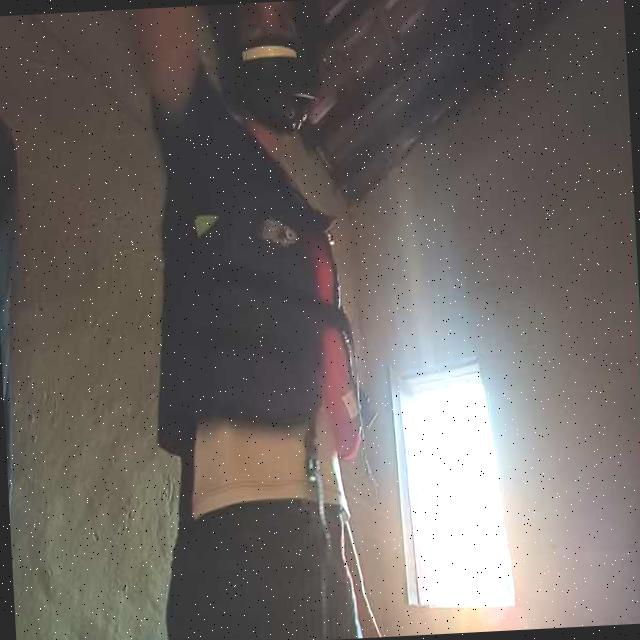capacete: (210, 0, 326, 129)
colete: (147, 122, 360, 450)
pessoa: (124, 0, 389, 640)
